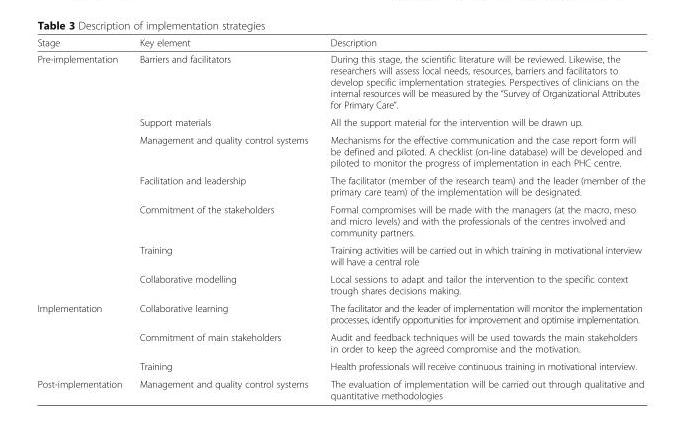table: (36, 36, 644, 400)
table column: (318, 36, 644, 400), (130, 36, 318, 400), (36, 36, 130, 400)
table column header: (36, 36, 644, 50)
table row: (36, 50, 644, 113), (36, 130, 644, 171), (36, 200, 644, 240), (36, 269, 644, 299), (36, 171, 644, 200), (36, 240, 644, 269), (36, 299, 644, 328), (36, 328, 644, 357), (36, 374, 644, 400), (36, 113, 644, 130), (36, 357, 644, 374), (36, 36, 644, 50)
table spanning cell: (36, 50, 130, 299), (36, 299, 130, 374)
